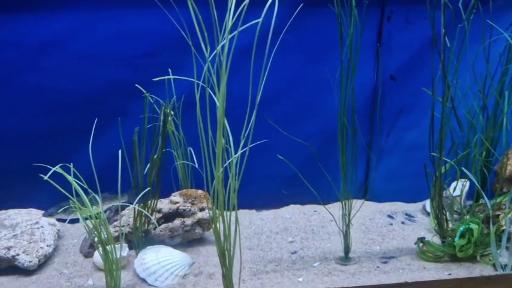Fish: (89, 194, 128, 210)
